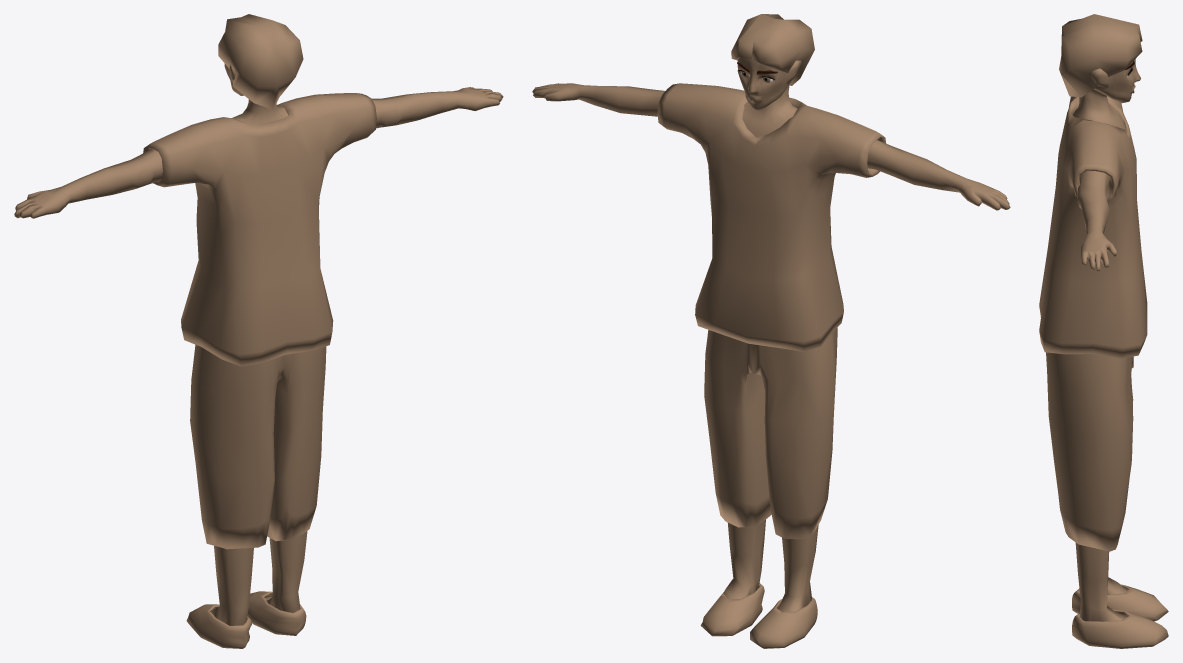
The model's file is NPCMen1.fbx.
3 renders of one model, left to right at view 1: azimuth 30°, elevation 25°; view 2: azimuth 150°, elevation 25°; view 3: azimuth 270°, elevation 25°, orthographic. The views are drawn at different scales.
Parts seen in each view (by area): view 1: NPCshirt, NPCpants, NPCbody, NPChair, NPCshoes; view 2: NPCshirt, NPCpants, NPCbody, NPCshoes, NPChair; view 3: NPCshirt, NPCpants, NPCbody, NPChair, NPCshoes.
Part boxes in pixels (x1,y1,x2,y2): NPCshirt: (143, 93, 376, 366); NPCpants: (190, 344, 326, 549); NPCbody: (14, 64, 503, 625); NPChair: (218, 14, 303, 109); NPCshoes: (186, 591, 306, 648); NPCshirt: (657, 83, 886, 351); NPCpants: (704, 327, 837, 539); NPCbody: (532, 58, 1010, 612); NPCshoes: (700, 583, 817, 648); NPChair: (731, 14, 814, 85); NPCshirt: (1039, 96, 1147, 358); NPCpants: (1046, 352, 1133, 551); NPCbody: (1073, 59, 1140, 621); NPChair: (1059, 14, 1142, 97); NPCshoes: (1072, 584, 1168, 648).
Bounding box in the file's own units: 871 × 1049 × 202.
